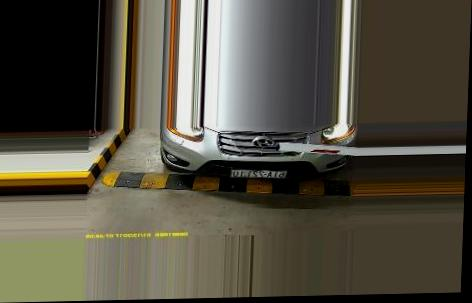License_Plate: (229, 165, 289, 181)
